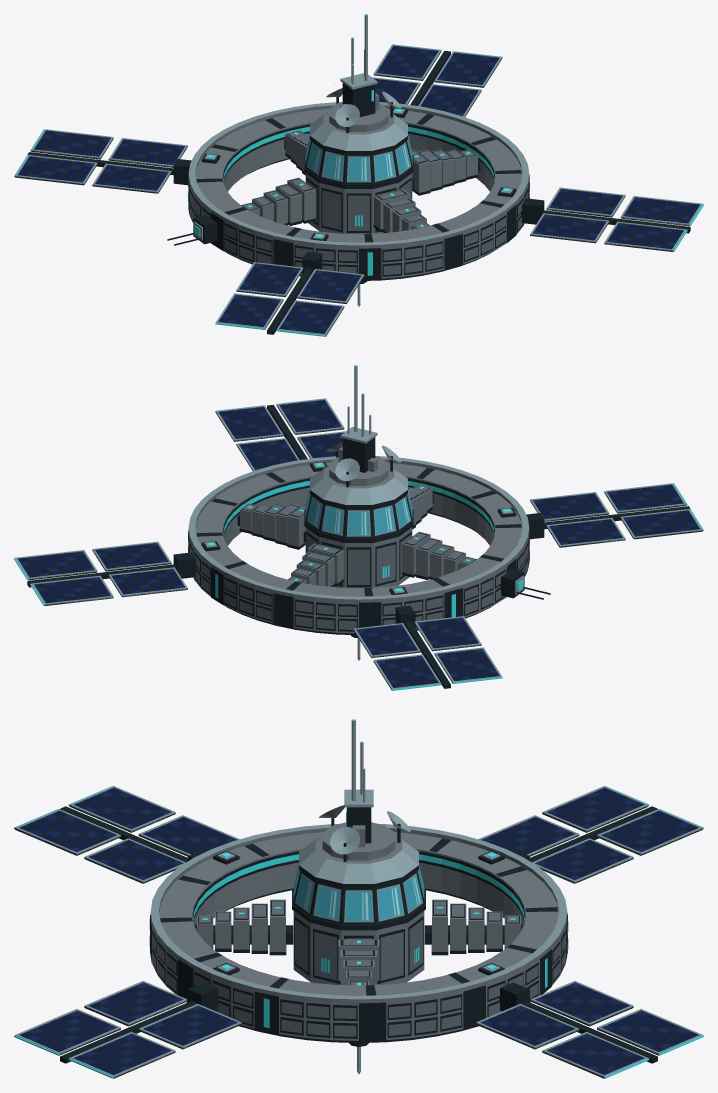
File: estacion.obj
3 views of the same model, one above another, from view 1: azimuth 30°, elevation 25°; view 2: azimuth 150°, elevation 25°; view 3: azimuth 270°, elevation 25° (orthographic). The views are drawn at different scales.
Parts seen in each view (by area): view 1: Estacion; view 2: Estacion; view 3: Estacion.
Boxes of the visible parts, x1,y1,x2,y2 form: Estacion: (14,14,703,336); Estacion: (14,365,703,690); Estacion: (14,719,703,1078).
Bounding box in the file's own units: 66.24 × 37.9 × 66.24.
